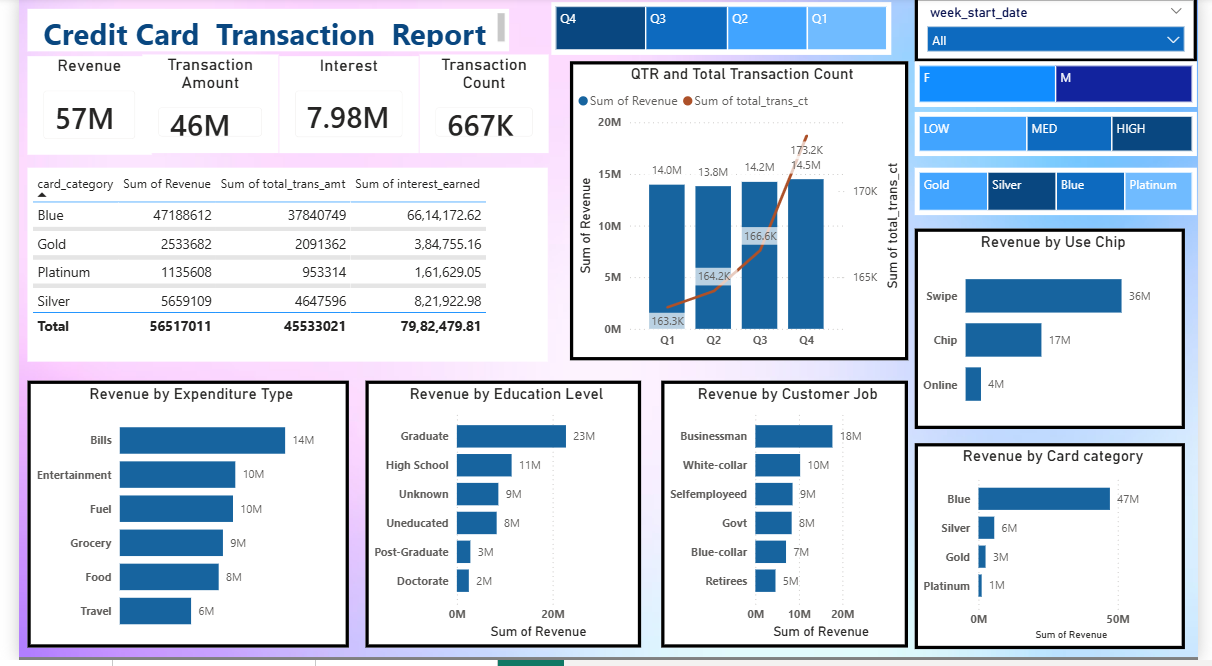

Layout of this report page (visuals, bound fields, positions):
{"tool":"powerbi","page":{"name":"CC Transaction","canvas":[1280,720],"ordinal":1},"visuals":[{"type":"textbox","box":[9.2,12.8,523.1,45.9],"z":0},{"type":"lineStackedColumnComboChart","title":"QTR and Total Transaction Count","fields":{"Category":["public cc_detail.qtr"],"Y":["Sum(public cc_detail.Revenue)"],"Y2":["Sum(public cc_detail.total_trans_ct)"]},"box":[598.5,70.2,367.6,325.1],"z":1000},{"type":"barChart","title":"Revenue by Expenditure Type","fields":{"Y":["Sum(public cc_detail.Revenue)"],"Category":["public cc_detail.exp_type"]},"box":[9.2,417.5,349.1,290],"z":2000},{"type":"barChart","title":"Revenue by Customer Job","fields":{"Y":["Sum(public cc_detail.Revenue)"],"Category":["public cust_detail.customer_job"]},"box":[698.3,417.5,267.9,290],"z":3000},{"type":"barChart","title":"Revenue by Education Level","fields":{"Y":["Sum(public cc_detail.Revenue)"],"Category":["public cust_detail.education_level"]},"box":[376.8,417.5,299.3,290],"z":4000},{"type":"barChart","title":"Revenue by Card category","fields":{"Y":["Sum(public cc_detail.Revenue)"],"Category":["public cc_detail.card_category"]},"box":[973.5,484,293.7,223.5],"z":5000},{"type":"barChart","title":"Revenue by Use Chip","fields":{"Y":["Sum(public cc_detail.Revenue)"],"Category":["public cc_detail.use_chip"]},"box":[973.5,251.2,293.7,218],"z":6000},{"type":"tableEx","fields":{"Values":["public cc_detail.card_category","Sum(public cc_detail.Revenue)","Sum(public cc_detail.total_trans_amt)","Sum(public cc_detail.interest_earned)"]},"box":[9.2,184.7,565.3,210.6],"z":7000},{"type":"cardVisual","title":"Revenue","fields":{"Data":["Sum(public cc_detail.Revenue)"]},"box":[9.2,64.7,134.8,107.1],"z":8000},{"type":"cardVisual","title":"Transaction  Amount","fields":{"Data":["Sum(public cc_detail.total_trans_amt)"]},"box":[134.8,62.8,147.8,107.1],"z":9000},{"type":"cardVisual","title":"Interest","fields":{"Data":["Sum(public cc_detail.interest_earned)"]},"box":[282.6,64.7,151.5,105.3],"z":10000},{"type":"cardVisual","title":"Transaction Count","fields":{"Data":["Sum(public cc_detail.total_trans_ct)"]},"box":[434.1,62.8,140.4,107.1],"z":11000},{"type":"slicer","fields":{"Values":["public cc_detail.week_start_date"]},"box":[973.5,0,306.6,70.2],"z":12000},{"type":"treemap","fields":{"Group":["public cc_detail.qtr"],"Values":["Avg(public cc_detail.client_num)"]},"box":[578.2,5.5,369.5,57.3],"z":13000},{"type":"treemap","fields":{"Group":["public cust_detail.gender"],"Values":["Avg(public cc_detail.client_num)"]},"box":[973.5,70.2,306.6,49.9],"z":14000},{"type":"treemap","fields":{"Group":["public cc_detail.card_category"],"Values":["Avg(public cc_detail.client_num)"]},"box":[973.5,184.7,306.6,51.7],"z":15000},{"type":"treemap","fields":{"Group":["public cust_detail.IncomeGroup"],"Values":["CountNonNull(public cc_detail.client_num)"]},"box":[973.5,125.6,306.6,48],"z":16000}]}

Visuals, with their boxes in screenshot pixels (x1, y1, x2, y2), scaled from the page's 1280x720 canvas onto the 1212x666 screenshot:
textbox: rect(9, 12, 504, 54)
"QTR and Total Transaction Count" lineStackedColumnComboChart: rect(567, 65, 915, 366)
"Revenue by Expenditure Type" barChart: rect(9, 386, 339, 654)
"Revenue by Customer Job" barChart: rect(661, 386, 915, 654)
"Revenue by Education Level" barChart: rect(357, 386, 640, 654)
"Revenue by Card category" barChart: rect(922, 448, 1200, 654)
"Revenue by Use Chip" barChart: rect(922, 232, 1200, 434)
tableEx - public cc_detail.card_category x Sum(public cc_detail.Revenue): rect(9, 171, 544, 366)
"Revenue" cardVisual: rect(9, 60, 136, 159)
"Transaction  Amount" cardVisual: rect(128, 58, 268, 157)
"Interest" cardVisual: rect(268, 60, 411, 157)
"Transaction Count" cardVisual: rect(411, 58, 544, 157)
slicer - public cc_detail.week_start_date: rect(922, 0, 1211, 65)
treemap - public cc_detail.qtr x Avg(public cc_detail.client_num): rect(547, 5, 897, 58)
treemap - public cust_detail.gender x Avg(public cc_detail.client_num): rect(922, 65, 1211, 111)
treemap - public cc_detail.card_category x Avg(public cc_detail.client_num): rect(922, 171, 1211, 219)
treemap - public cust_detail.IncomeGroup x CountNonNull(public cc_detail.client_num): rect(922, 116, 1211, 161)
